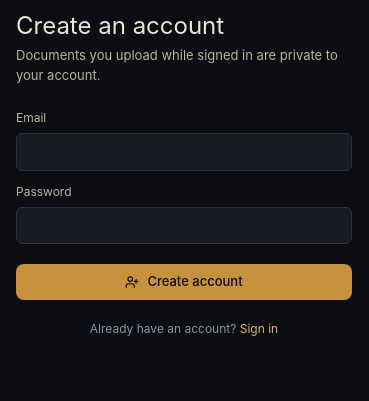
Test: RegisterPage › clears a previous error message on a successful resubmit
Type "alice@example.com" into the field labelled "Email" at (184, 152), box [16, 133, 352, 170]
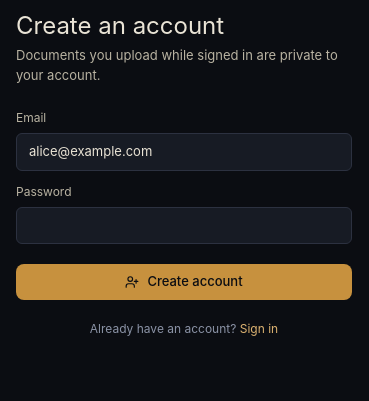
Type "hunter2pass" into the password field labelled "Password" at (184, 225), box [16, 206, 352, 244]
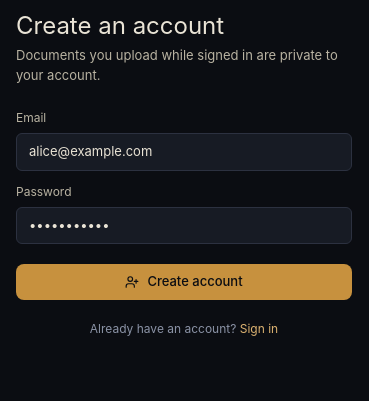
Click the button "Create account" at (184, 282), box [16, 264, 352, 300]
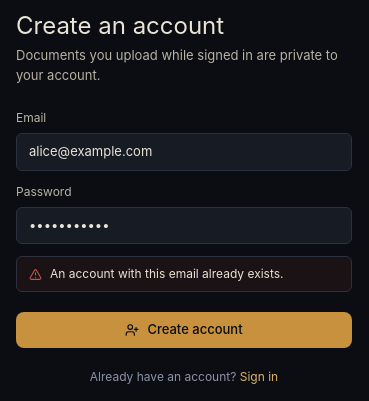
Check: the text "An account with this email already exists." is shown, box [16, 256, 352, 292]
Click the button "Create account" at (184, 330), box [16, 312, 352, 348]
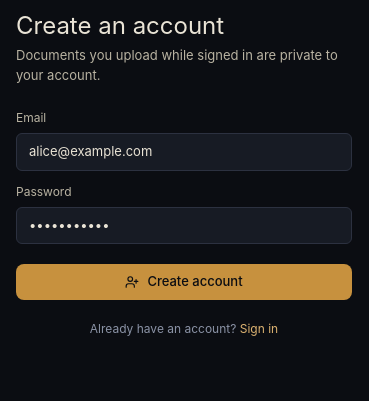
Check: the text "An account with this email already exists." is gone
